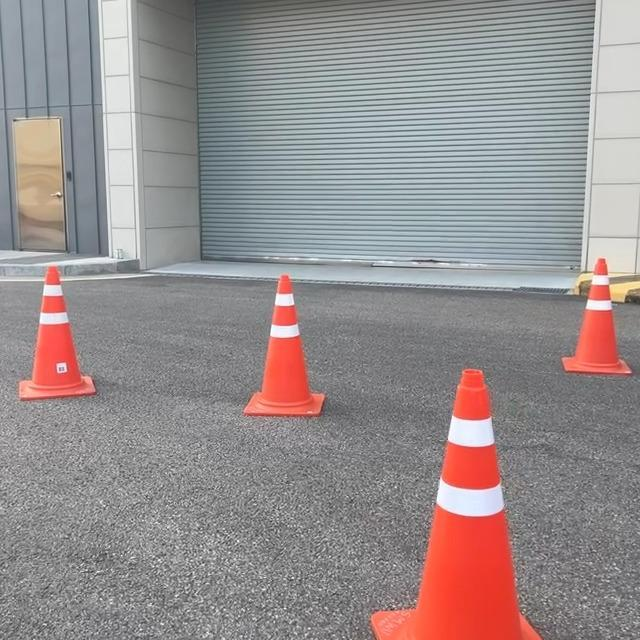fallen_object: (350, 357, 564, 640), (197, 256, 380, 451), (0, 249, 109, 451), (529, 242, 640, 429)
